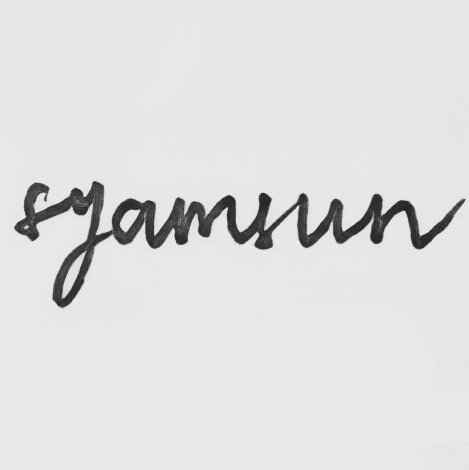a: (110, 195, 161, 248)
m: (171, 192, 240, 246)
n: (365, 189, 423, 253)
s: (8, 178, 50, 243), (248, 190, 278, 254)
u: (293, 191, 347, 252)
y: (51, 175, 107, 309)
